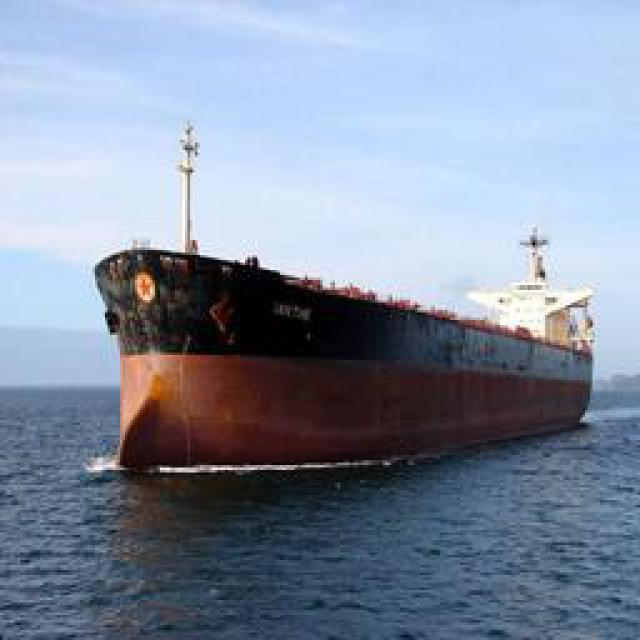Ship: (86, 237, 611, 485)
